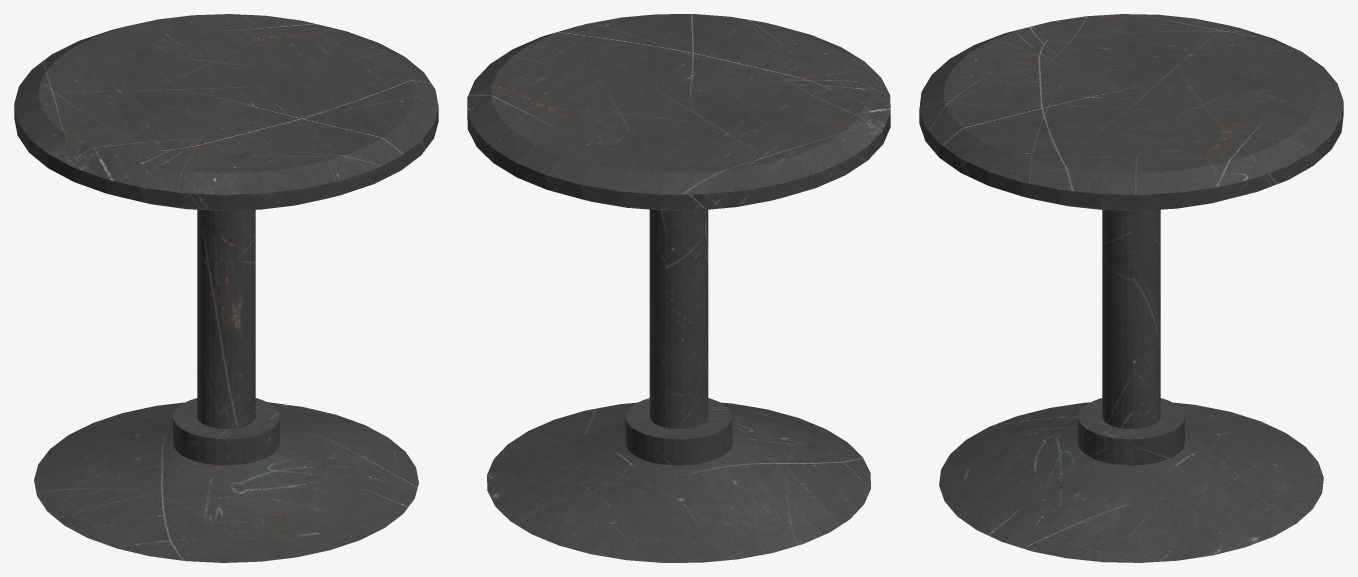
The model's file is sillaCafeteria.fbx.
The picture shows the model from 3 angles, left to right: view 1: azimuth 30°, elevation 25°; view 2: azimuth 150°, elevation 25°; view 3: azimuth 270°, elevation 25°; orthographic projection.
Visible parts, largest first — view 1: Circle.005; view 2: Circle.005; view 3: Circle.005.
Part boxes in pixels (left/top/right/bottom): Circle.005: left=14, top=14, right=438, bottom=562; Circle.005: left=467, top=14, right=890, bottom=562; Circle.005: left=919, top=14, right=1343, bottom=562.
Bounding box in the file's own units: 114 × 116 × 114.
Materials: 1 (1 with a texture image).
